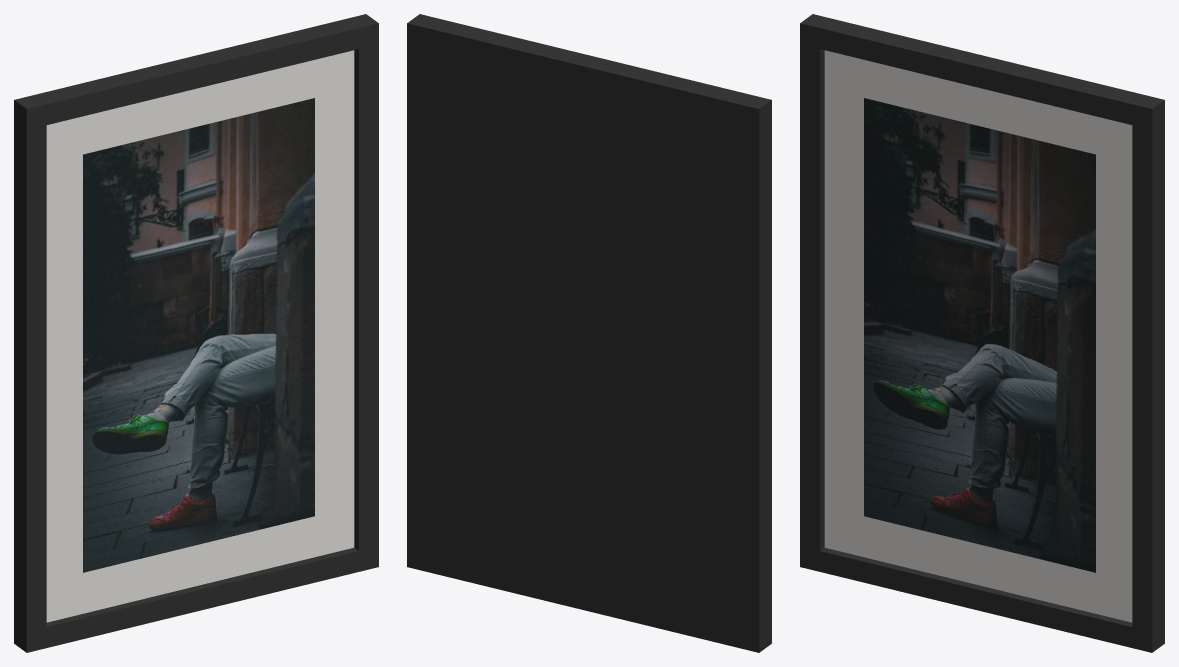
The model's file is skorna-40.gltf.
3 views of the same model, side by side, from view 1: azimuth 30°, elevation 25°; view 2: azimuth 150°, elevation 25°; view 3: azimuth 330°, elevation 25° (orthographic).
Visible parts, largest first — view 1: tavla; view 2: tavla; view 3: tavla.
Part boxes in pixels (bbox=[...]): tavla: bbox=[14, 14, 378, 652]; tavla: bbox=[407, 14, 771, 652]; tavla: bbox=[800, 14, 1164, 652].
Size of the model in its own units: 0.3523 by 0.52 by 0.022.
Materials: 3 (1 with a texture image).
